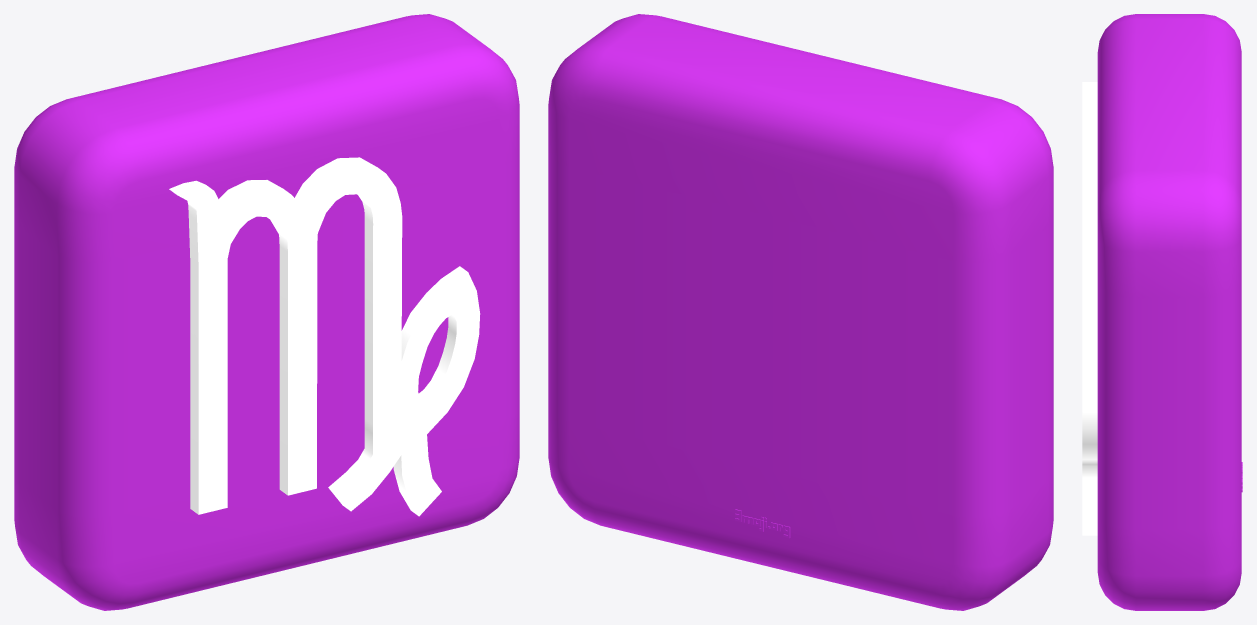
File: virgo.gltf
3 views of the same model, side by side, from view 1: azimuth 30°, elevation 25°; view 2: azimuth 150°, elevation 25°; view 3: azimuth 270°, elevation 25° (orthographic). The views are drawn at different scales.
Visible parts, largest first — view 1: Cube.6404; view 2: Cube.6404; view 3: Cube.6404.
Boxes of the visible parts, x1=… form: Cube.6404: x1=14, y1=14, x2=519, y2=610; Cube.6404: x1=548, y1=14, x2=1053, y2=610; Cube.6404: x1=1082, y1=14, x2=1242, y2=610.
Bounding box in the file's own units: 2.2 × 2.2 × 0.7337.
Materials: 1 (1 with a texture image).
